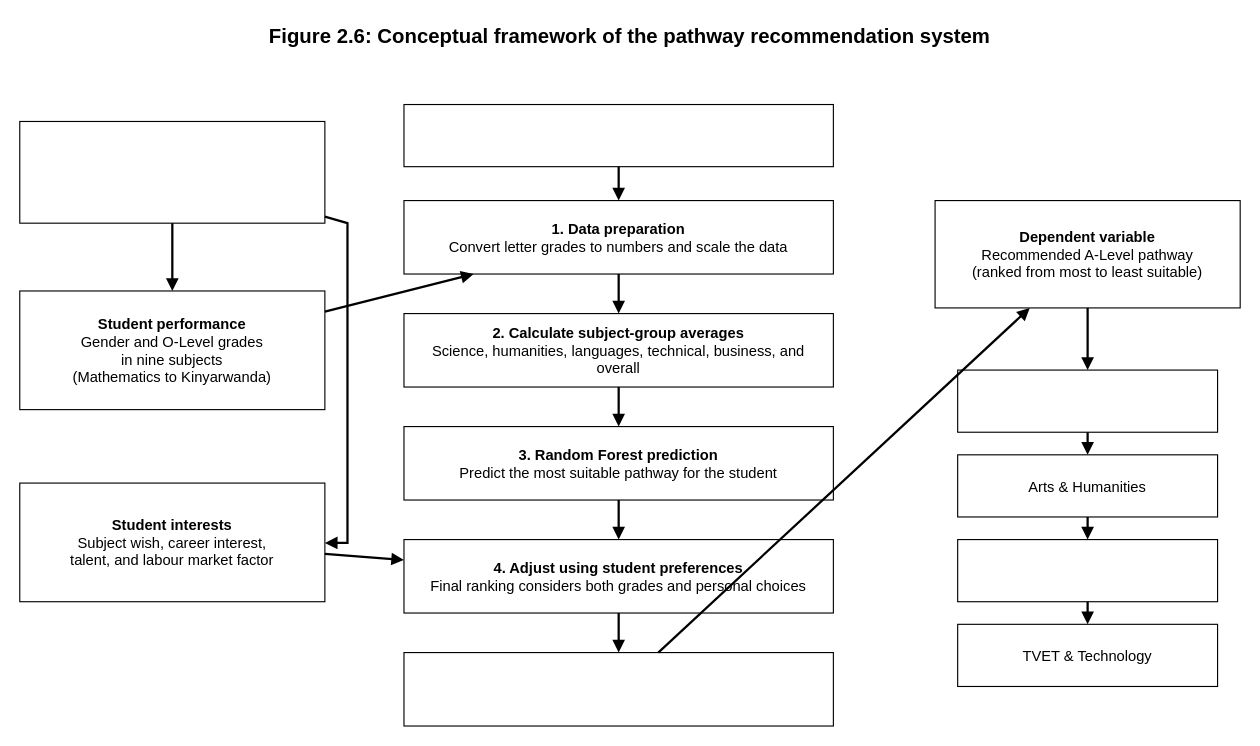
Image size: 1260x746. Some labels were removed from this diagram. The shapes that lost their labels are listed below. From the top down, each one's box as (x1, y1, x2, y2) in pixels, then its label:
(403, 103, 833, 167): How the system works / recommendation process
(19, 120, 325, 223): Independent variables Student data collected through the system form and survey
(957, 369, 1218, 432): Mathematics & Sciences
(957, 538, 1218, 602): Languages
(403, 651, 833, 726): 5. Display recommendation Show ranked pathways and print-ready result
